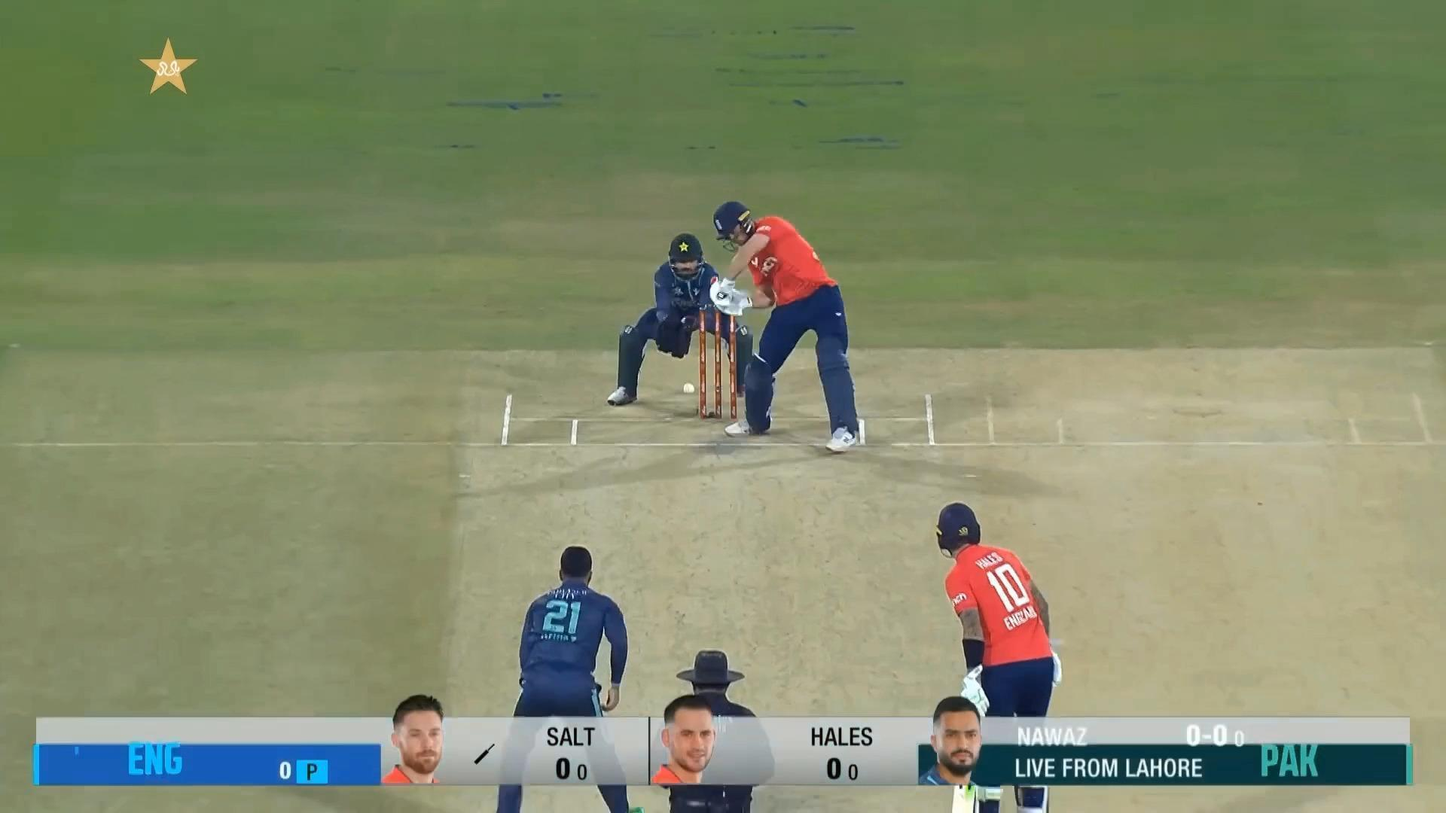BM 1: (709, 199, 864, 455)
BO: (493, 542, 648, 813)
